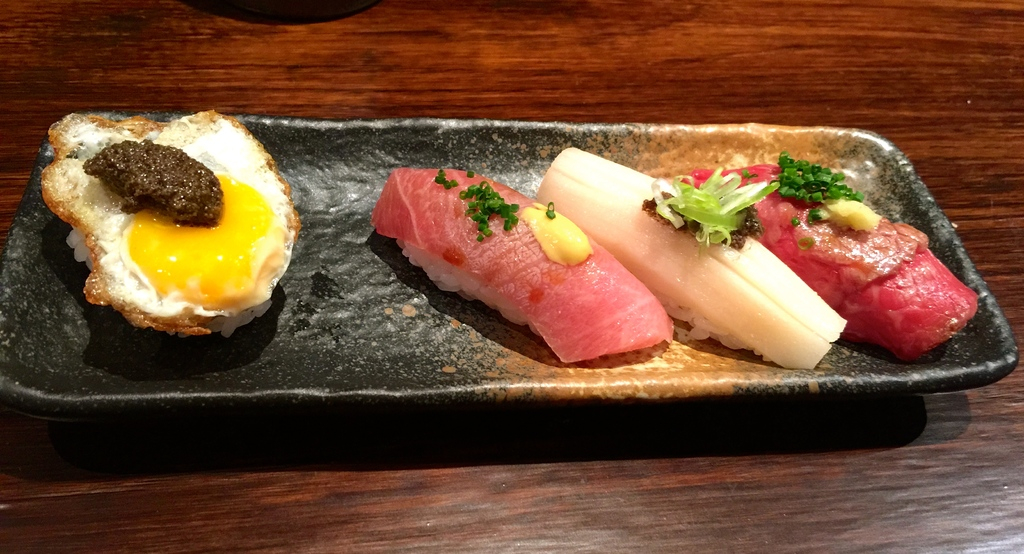sushi: (532, 147, 844, 371), (371, 167, 671, 371), (39, 102, 300, 336), (682, 152, 980, 354)
